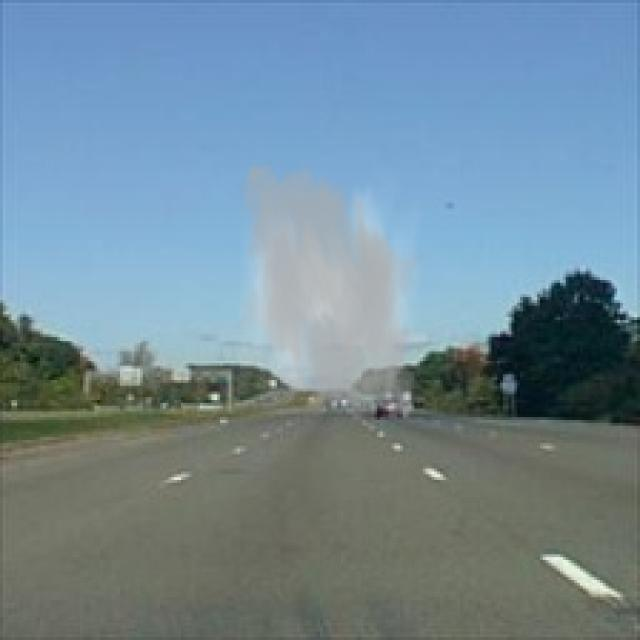Smoke: (228, 152, 434, 432)
